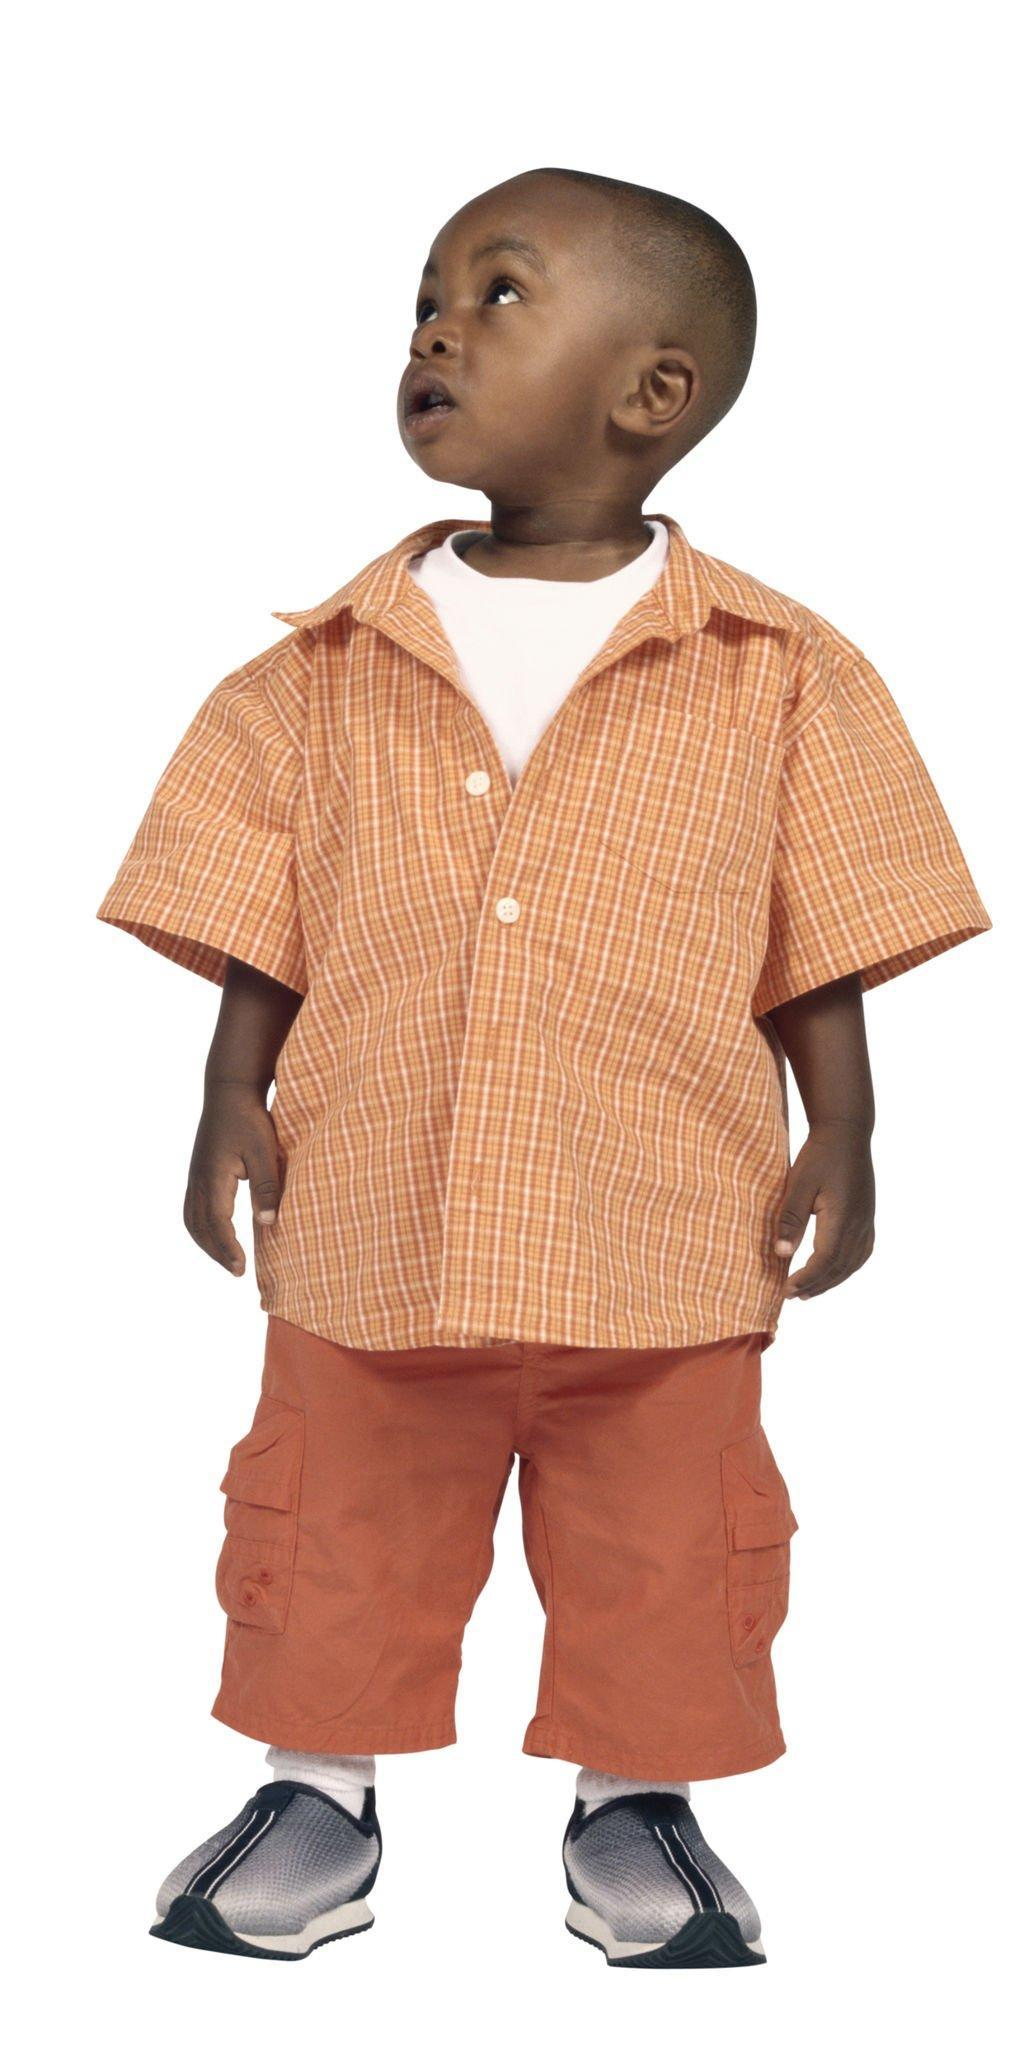Healthy: (346, 152, 739, 559)
